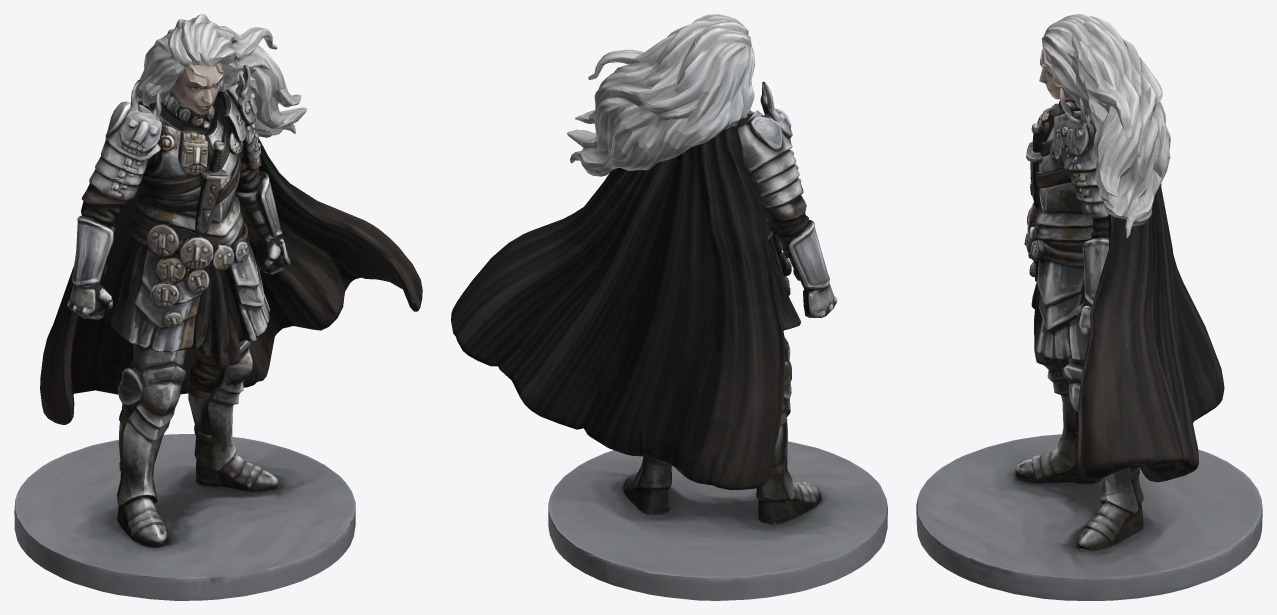
Rendered from esmeria_h.glb.
3 views of the same model, side by side, from view 1: azimuth 30°, elevation 25°; view 2: azimuth 150°, elevation 25°; view 3: azimuth 270°, elevation 25° (orthographic).
Visible parts, largest first — view 1: output_unwrapped; view 2: output_unwrapped; view 3: output_unwrapped.
Part boxes in pixels (box(x1,y1,x2,y2)): output_unwrapped: box(14, 14, 422, 600); output_unwrapped: box(451, 14, 887, 600); output_unwrapped: box(916, 14, 1262, 600).
Bounding box in the file's own units: 1.53 × 1.9 × 1.16.
1 material, 1 textured.
